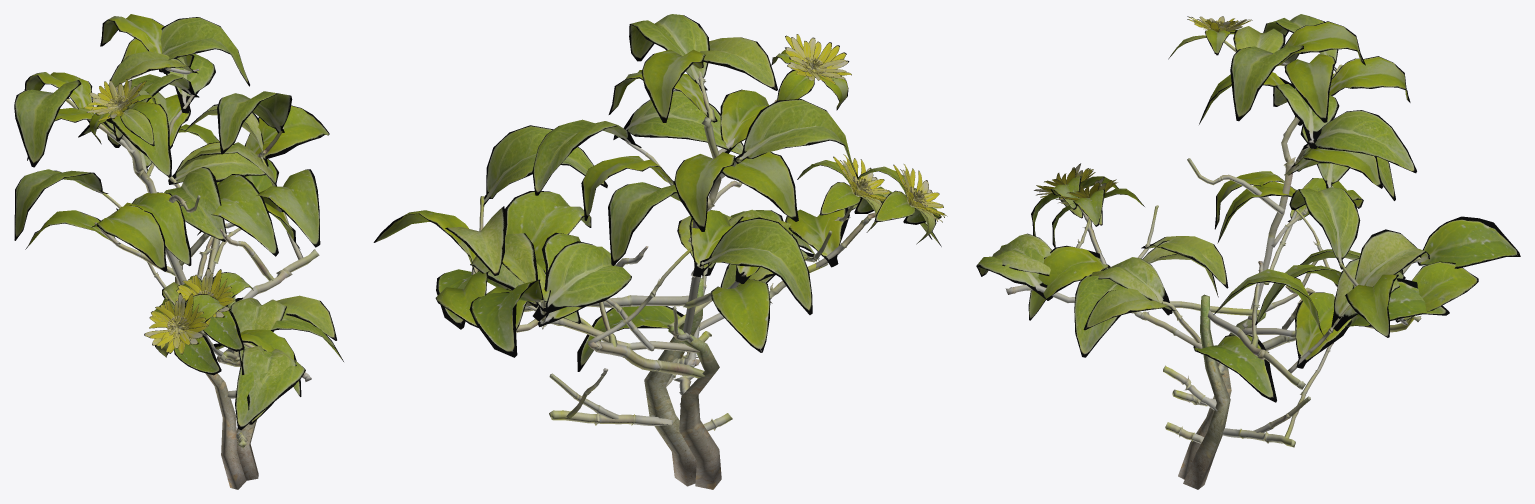
The model's file is didelta_spinosa.glb.
3 views of the same model, side by side, from view 1: azimuth 30°, elevation 25°; view 2: azimuth 150°, elevation 25°; view 3: azimuth 270°, elevation 25° (orthographic). The views are drawn at different scales.
Parts seen in each view (by area): view 1: didelta_spinosa_small_LOD0; view 2: didelta_spinosa_small_LOD0; view 3: didelta_spinosa_small_LOD0.
Boxes of the visible parts, left/top/right/bottom form: didelta_spinosa_small_LOD0: left=14, top=14, right=343, bottom=489; didelta_spinosa_small_LOD0: left=373, top=14, right=947, bottom=489; didelta_spinosa_small_LOD0: left=976, top=14, right=1520, bottom=489.
Size of the model in its own units: 0.8172 by 0.9354 by 1.06.
Materials: 1 (1 with a texture image).
